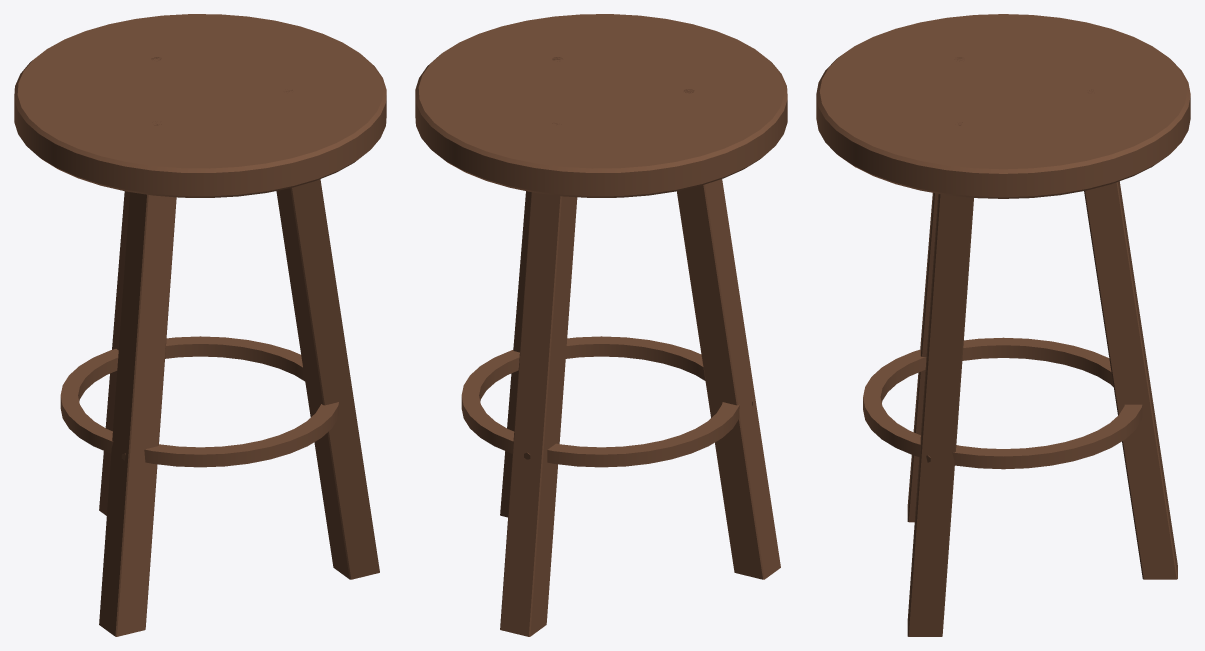
The model's file is stool-low-a8603011946b.glb.
3 renders of one model, left to right at view 1: azimuth 30°, elevation 25°; view 2: azimuth 150°, elevation 25°; view 3: azimuth 270°, elevation 25°, orthographic.
Parts seen in each view (by area): view 1: wood-coffee, wood-coffee-inset; view 2: wood-coffee, wood-coffee-inset; view 3: wood-coffee, wood-coffee-inset.
Part boxes in pixels (left/top/right/bottom): wood-coffee: left=14, top=14, right=386, bottom=636; wood-coffee-inset: left=121, top=57, right=379, bottom=579; wood-coffee: left=415, top=14, right=787, bottom=636; wood-coffee-inset: left=500, top=57, right=752, bottom=517; wood-coffee: left=816, top=14, right=1190, bottom=579; wood-coffee-inset: left=907, top=57, right=1152, bottom=636.
Bounding box in the file's own units: 0.32 × 0.453 × 0.32.
